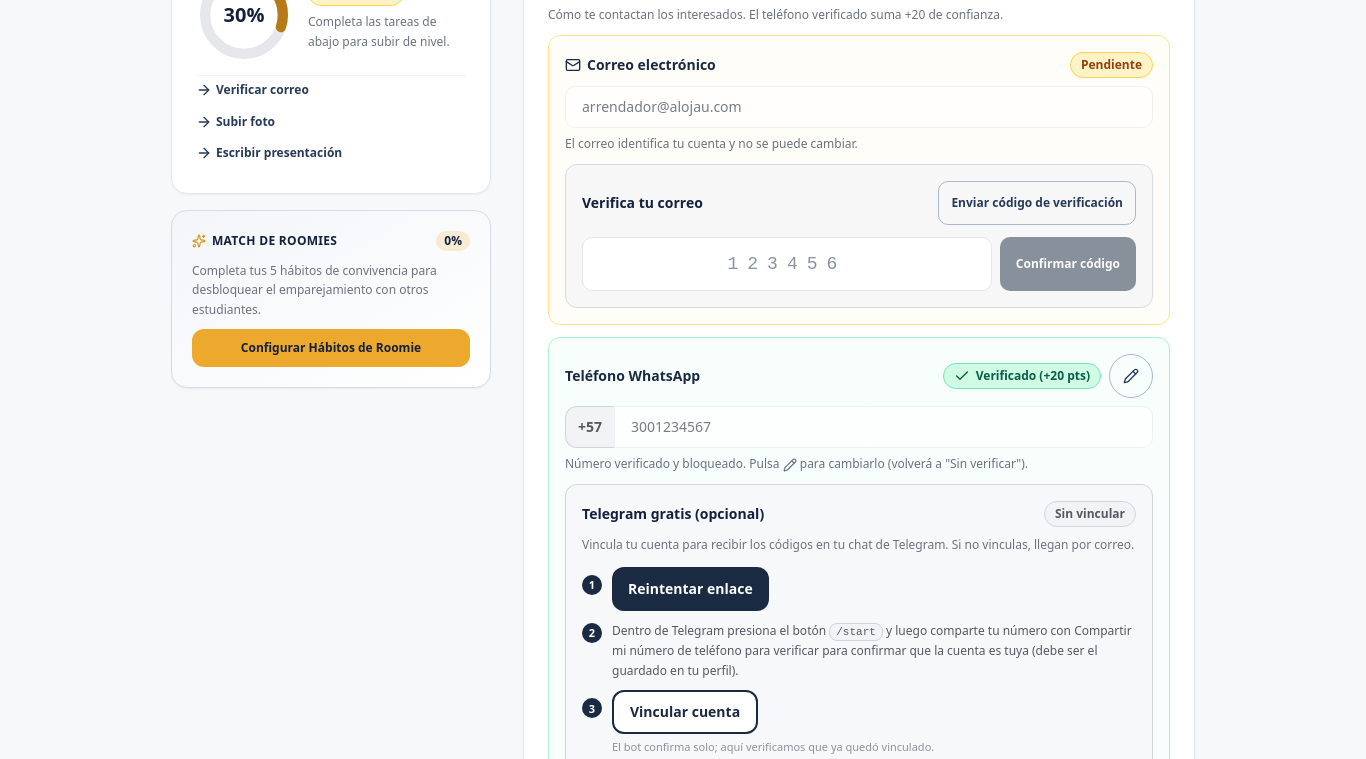
Test: Perfil - Perfil verificable + confianza clara › R1 teléfono verificado bloqueado con lápiz; editar lo habilita
The image size is (1366, 759).
(page scrolled)
Check: the field labelled "Teléfono WhatsApp" is disabled, box [614,406,1153,448]
Click the button named "Editar número de teléfono" at (1131,376), box [1109,354,1153,398]
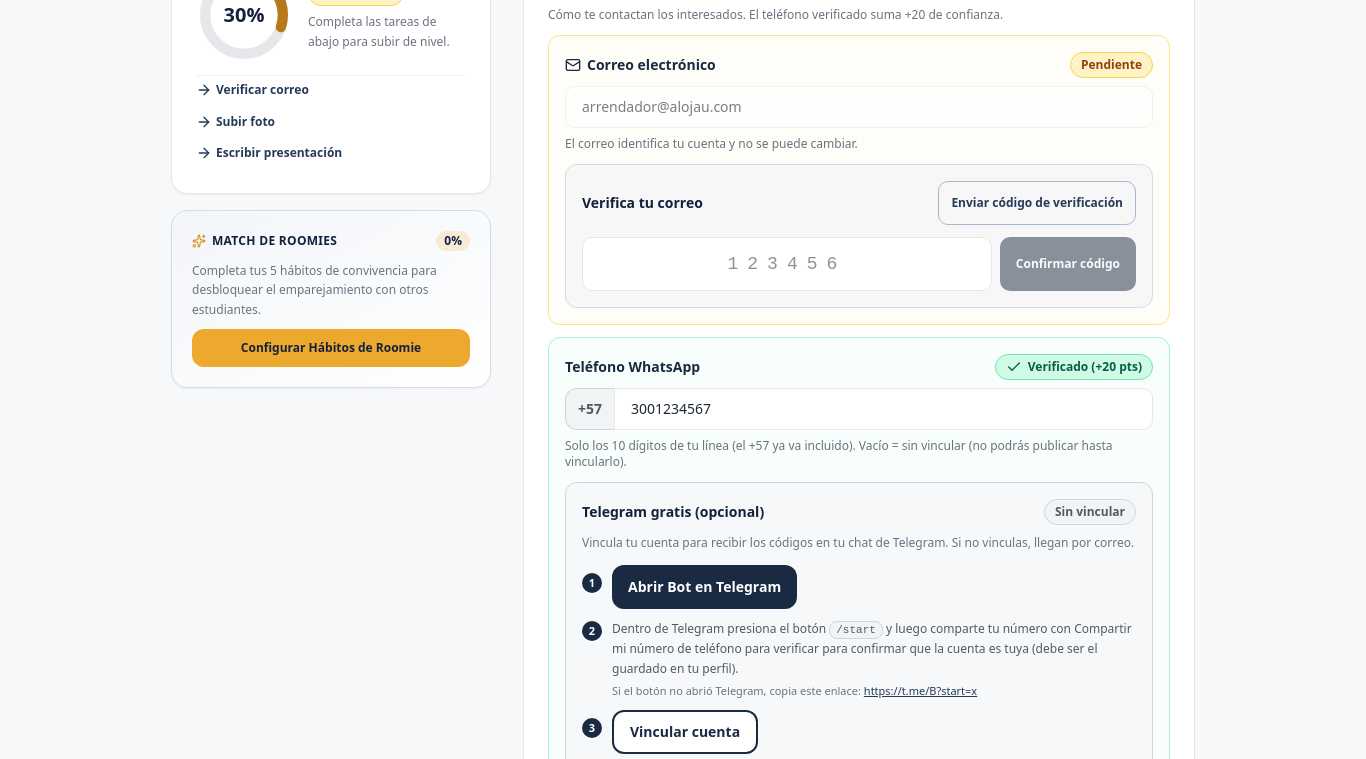
Check: the field labelled "Teléfono WhatsApp" is enabled, box [614,388,1153,430]
